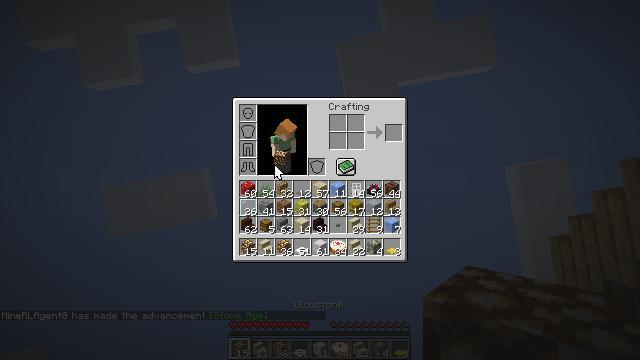cursor: (164, 274, 180, 284)
